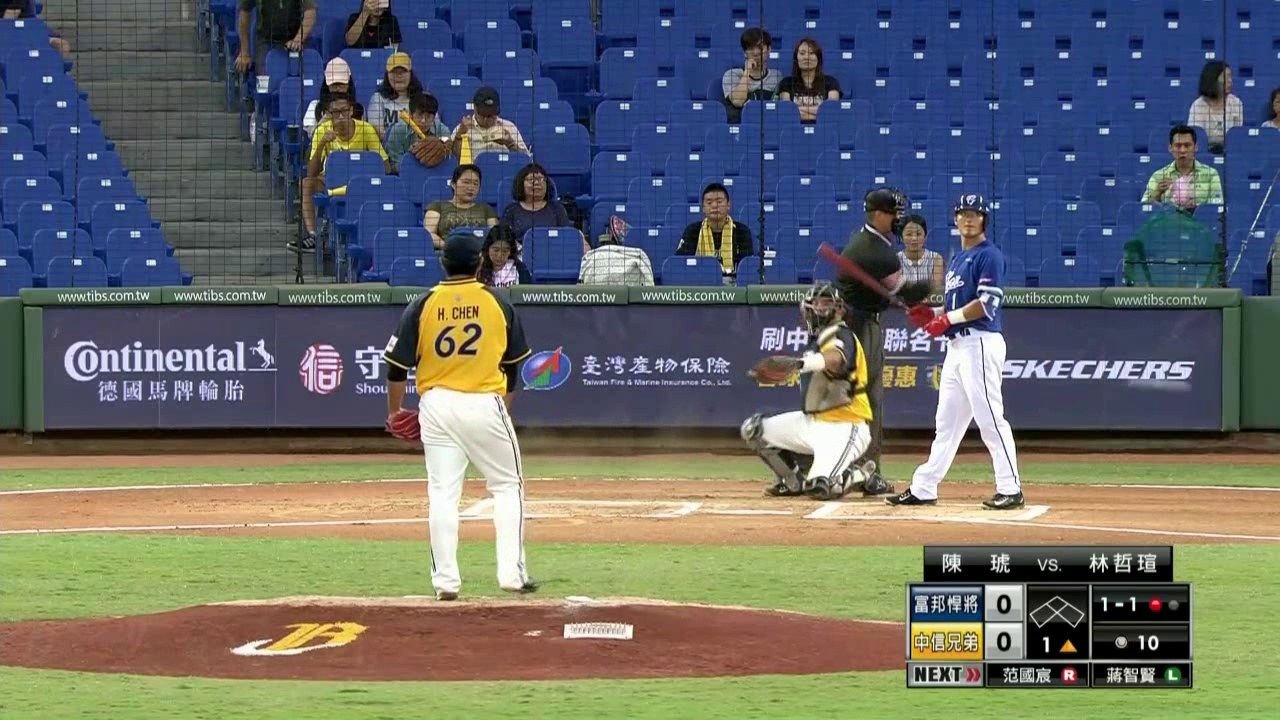base: (1028, 586, 1083, 629)
bat: (818, 244, 918, 317)
out: (1144, 593, 1182, 615)
score1: (991, 591, 1018, 618)
score2: (989, 628, 1023, 658)
session: (1034, 631, 1085, 658)
strikeball: (1095, 591, 1139, 616)
total: (1109, 629, 1165, 652)
